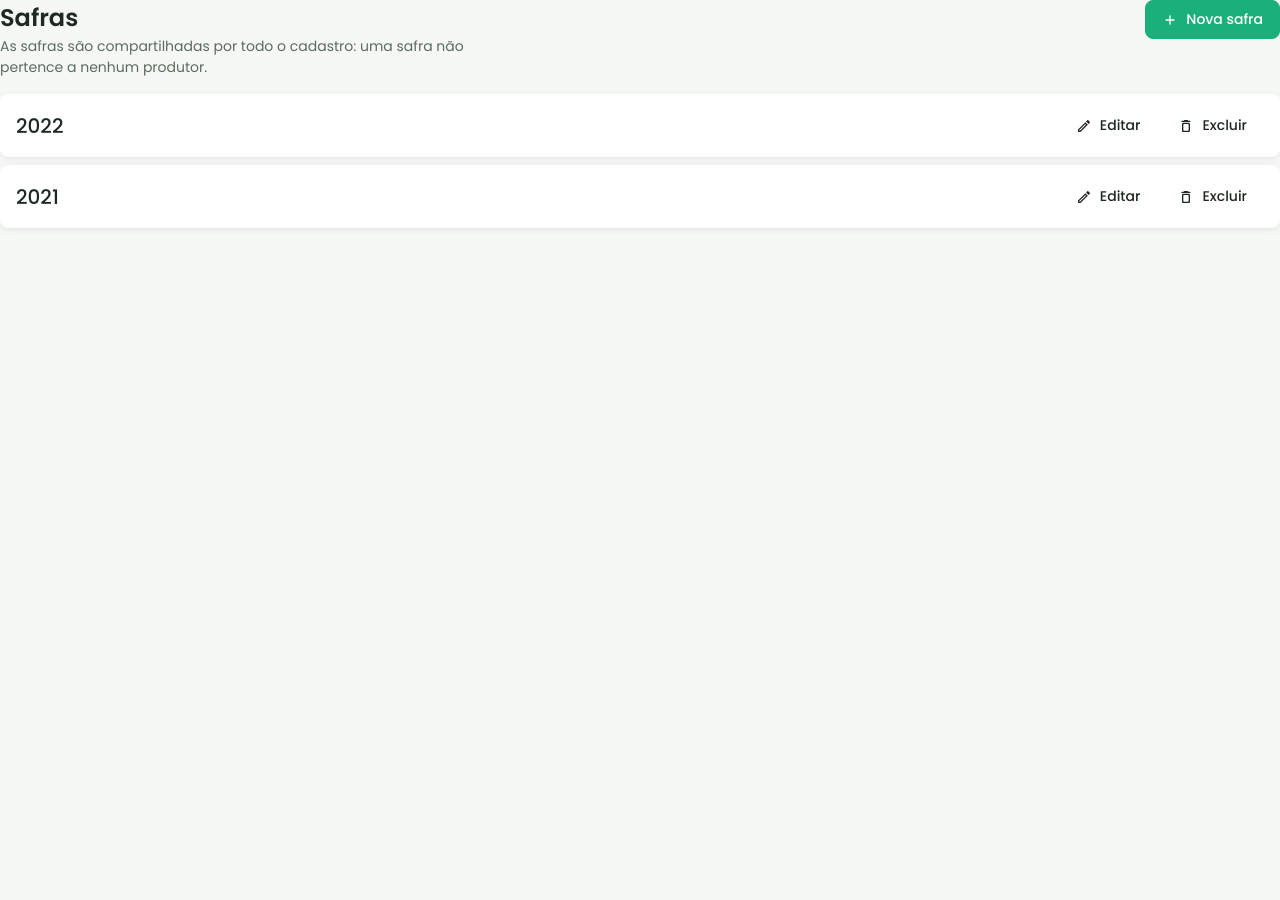
Test: SafraList › warns before deleting that the refusal is possible
The width and height of the screenshot is (1280, 900).
Expected: the link "2021" is shown, [16,182,59,212]
Click the button with aria-label "Excluir safra 2021": point(1213, 196) [1161,177,1264,216]
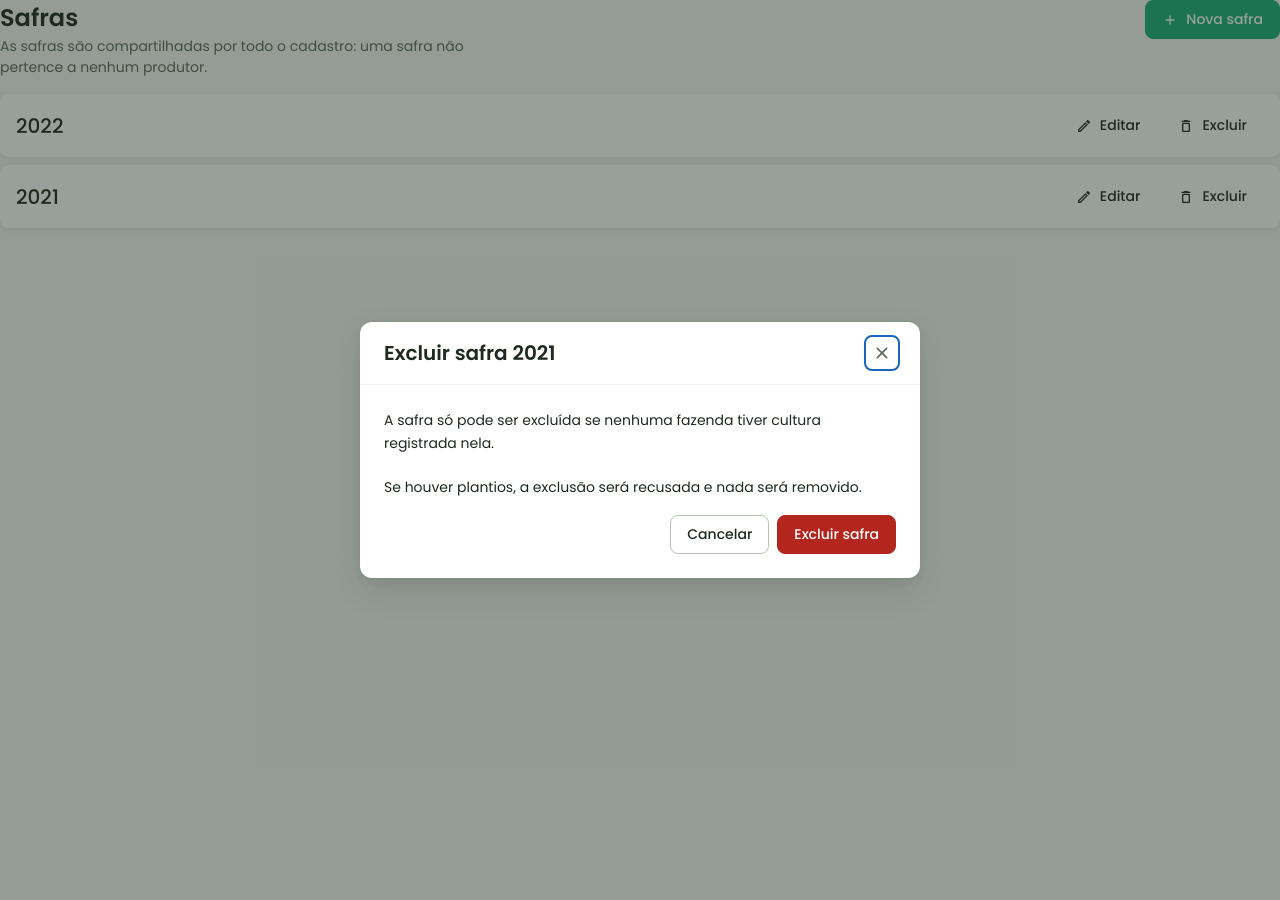
Expected: the text "só pode ser excluída se nenhuma fazenda tiver cultura registrada nela" is shown, [384,410,821,453]
